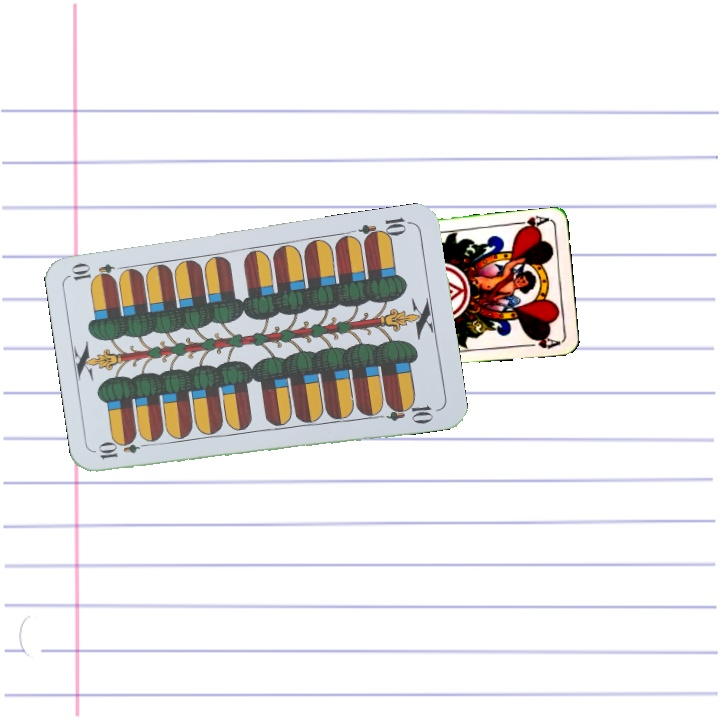E10: (355, 213, 414, 245), (94, 437, 153, 462)
HA: (511, 212, 552, 233)
